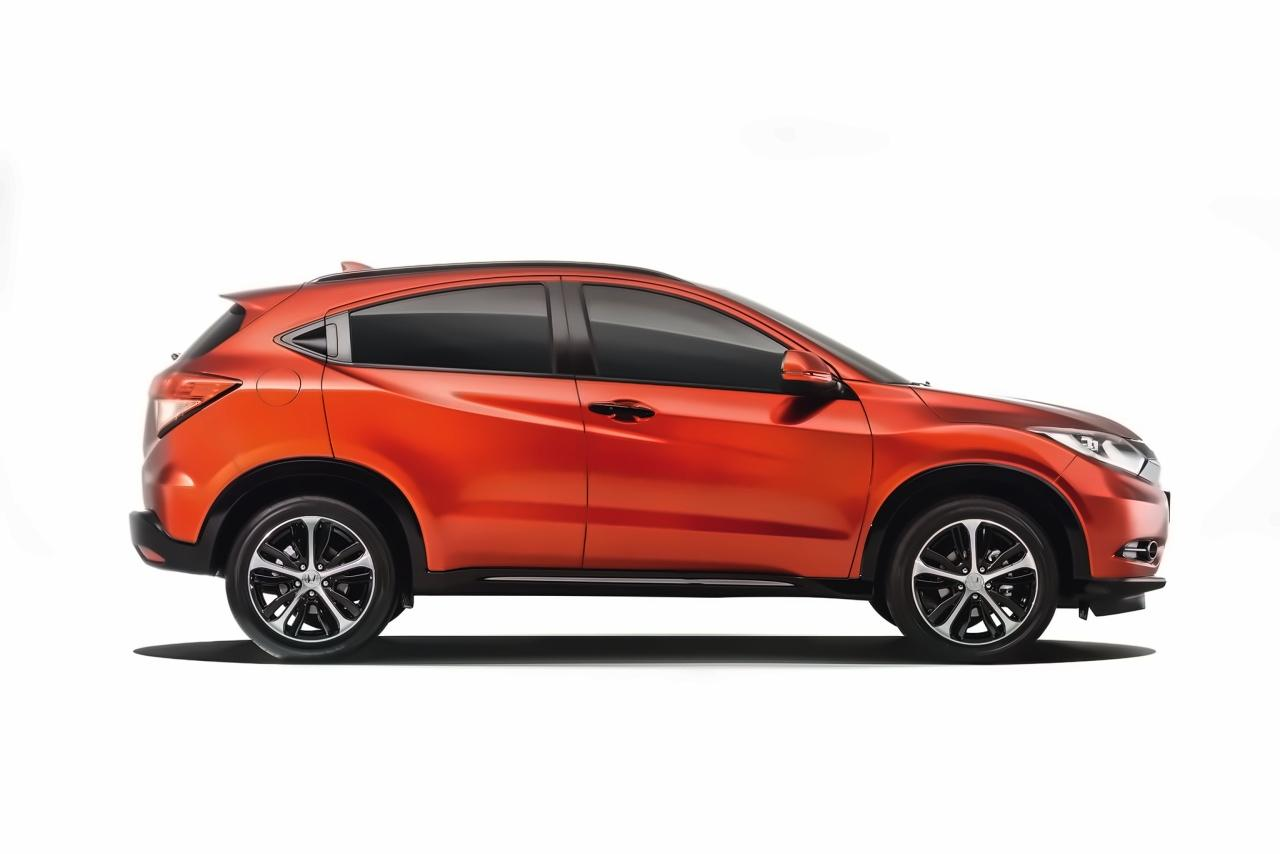Car boot: (117, 284, 306, 463)
Car hood: (912, 373, 1148, 447)
Driver-s door - -F-R-: (561, 260, 879, 584)
Fender - -F-R-: (832, 376, 1080, 596)
Fender - -R-R-: (208, 320, 347, 489)
Front bumper: (1055, 451, 1187, 627)
Headlight - -R-: (1019, 417, 1171, 498)
Passenger-s door - -R-R-: (320, 263, 589, 572)
Rear bumper: (129, 424, 249, 589)
Rear light - -R-: (143, 360, 247, 446)
Side bumper - -R-: (406, 557, 886, 610)
Side mirror - -R-: (766, 334, 852, 400)
